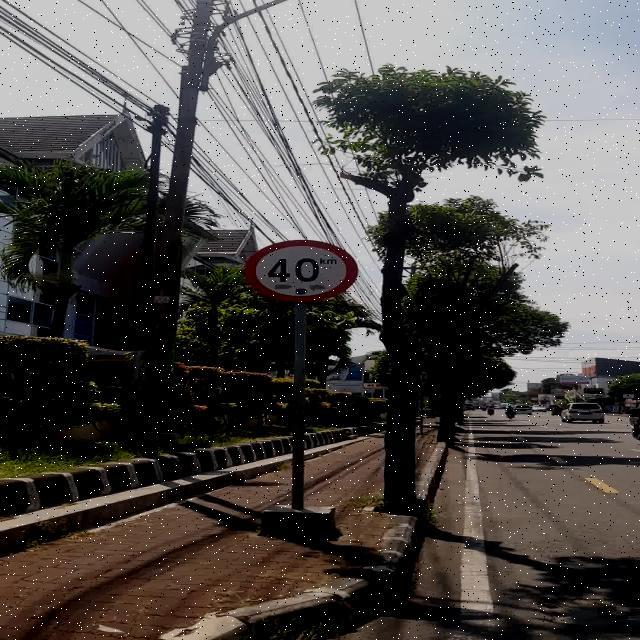Kecepatan Maks. 40 km: (243, 239, 359, 303)
